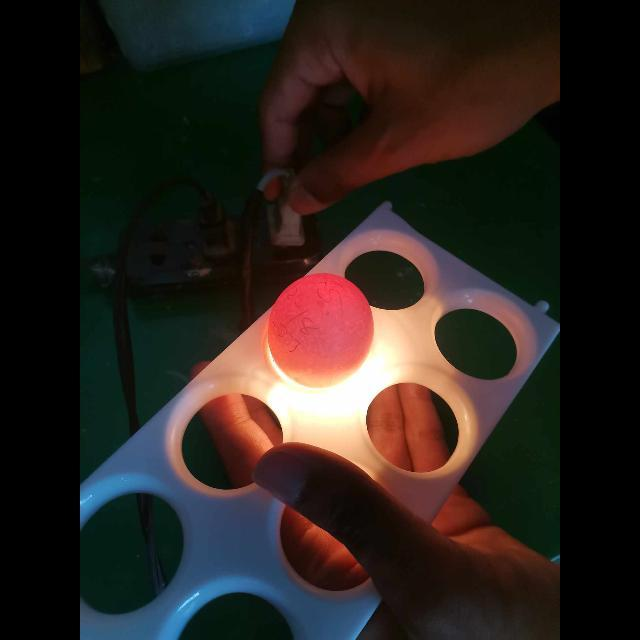Infertile: (266, 273, 376, 381)
